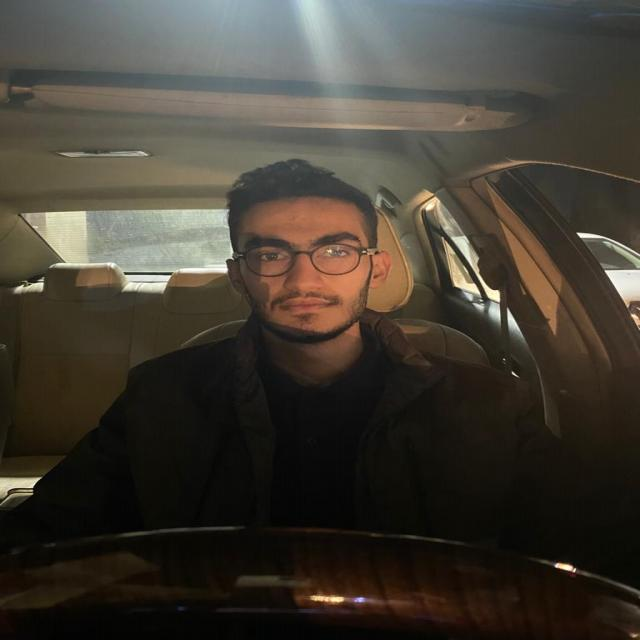person: (222, 154, 384, 347)
